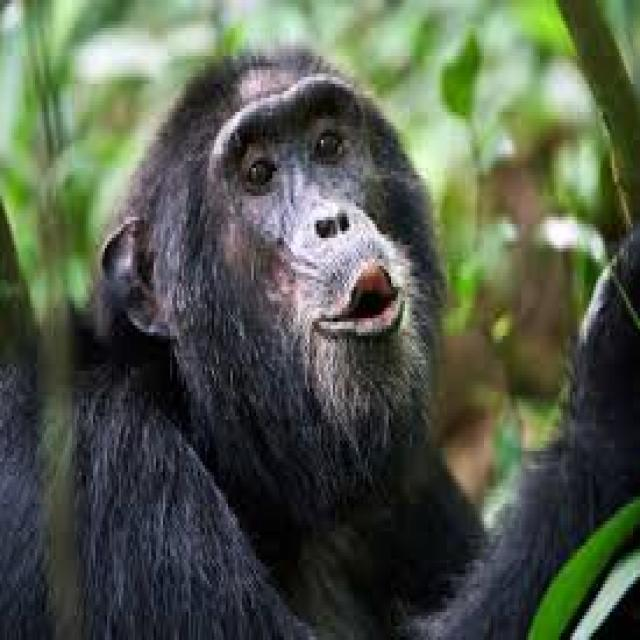Chimpanzee: (86, 41, 640, 640)
